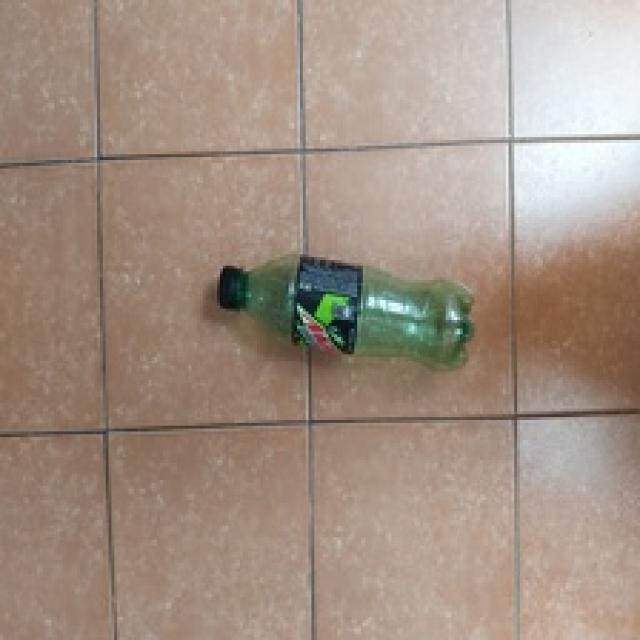Plastic: (212, 249, 474, 376)
